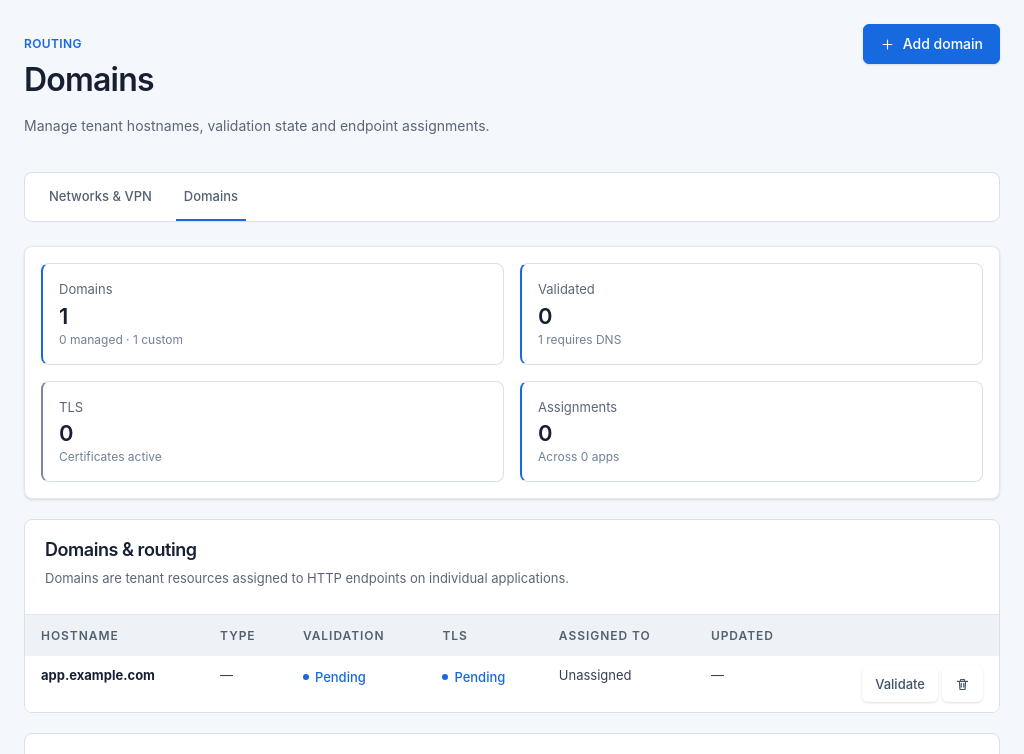
Test: guided access and routing › keeps backend endpoint IDs out of normal domain creation
The width and height of the screenshot is (1024, 754).
Expected: the row "app.example.com — Pending Pending Unassigned — Validate" is shown, [25,656,999,712]
Click the button "Add domain" at (931, 44), box [863,24,1000,64]
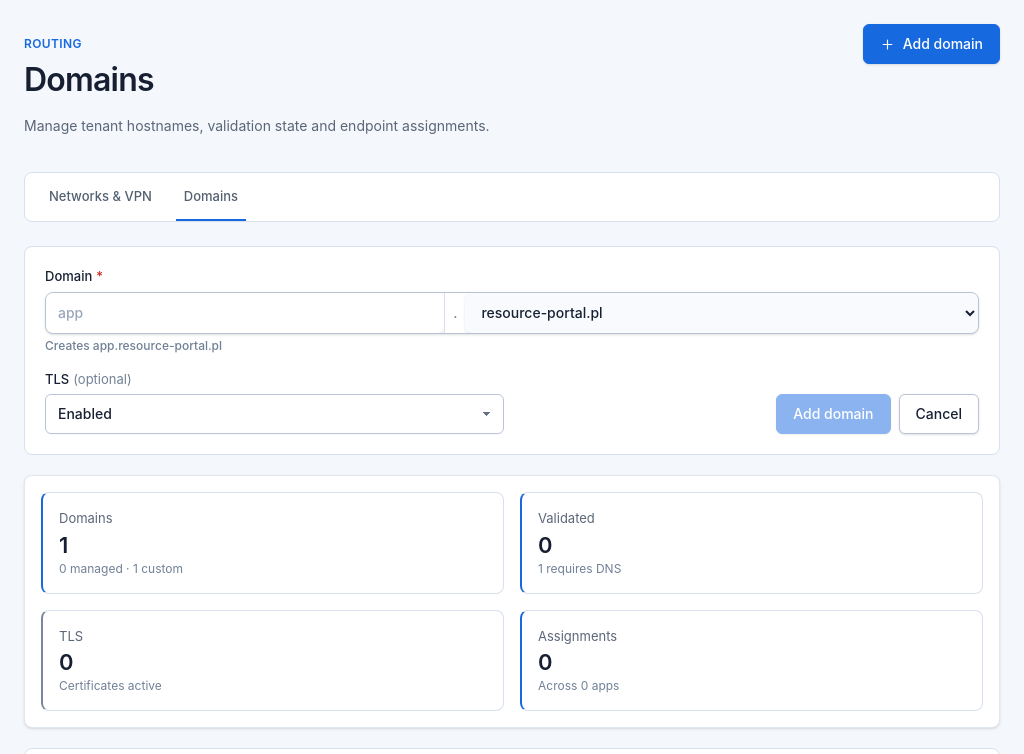
Now the field named "Domain prefix" is shown, box [46,293,444,333]
Now the dropdown named "Domain root" is shown, box [465,293,978,333]
